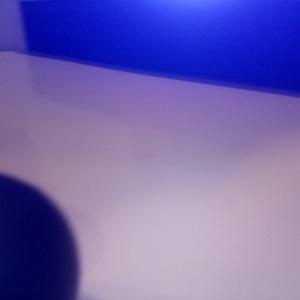dead_ball: (1, 172, 78, 300)
